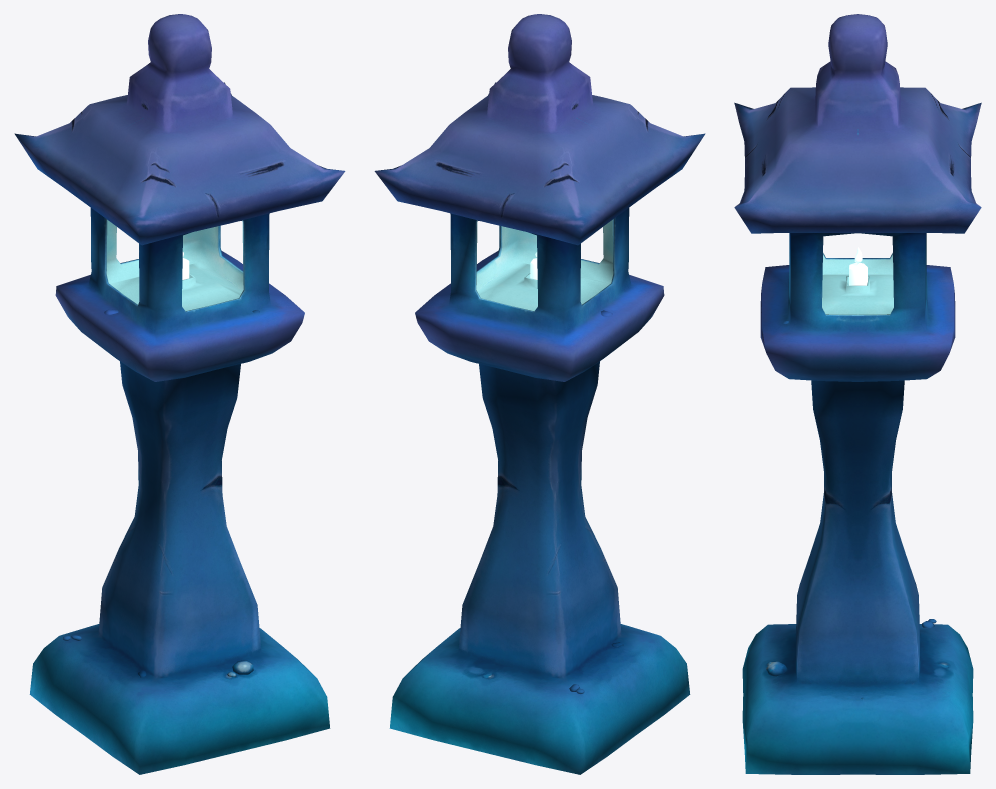
File: chinese_lamp.glb
3 renders of one model, left to right at view 1: azimuth 30°, elevation 25°; view 2: azimuth 150°, elevation 25°; view 3: azimuth 270°, elevation 25°, orthographic. The views are drawn at different scales.
Parts seen in each view (by area): view 1: Object_2; view 2: Object_2; view 3: Object_2, Object_3.
Part boxes in pixels (<box>): Object_2: <box>14,14,345,774</box>; Object_2: <box>374,14,705,774</box>; Object_2: <box>734,14,981,774</box>; Object_3: <box>849,247,867,285</box>.
Size of the model in its own units: 2.14 by 6.74 by 2.13.
2 materials, 1 textured.
